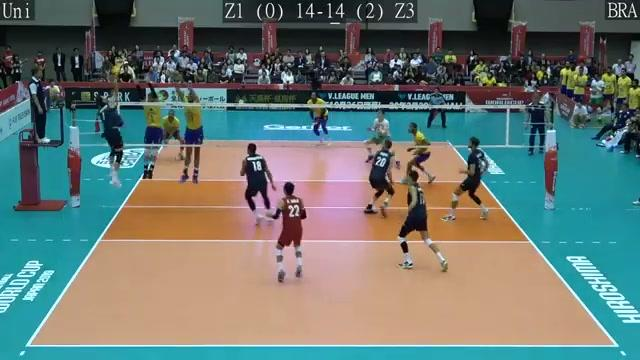ball: (109, 63, 121, 77)
